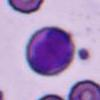M: (26, 26, 74, 76)
